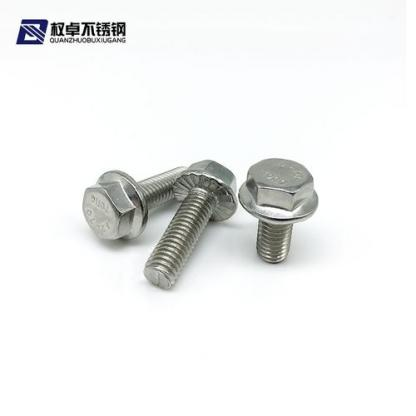FOD: (138, 159, 242, 290), (240, 159, 322, 264), (81, 166, 185, 242)
